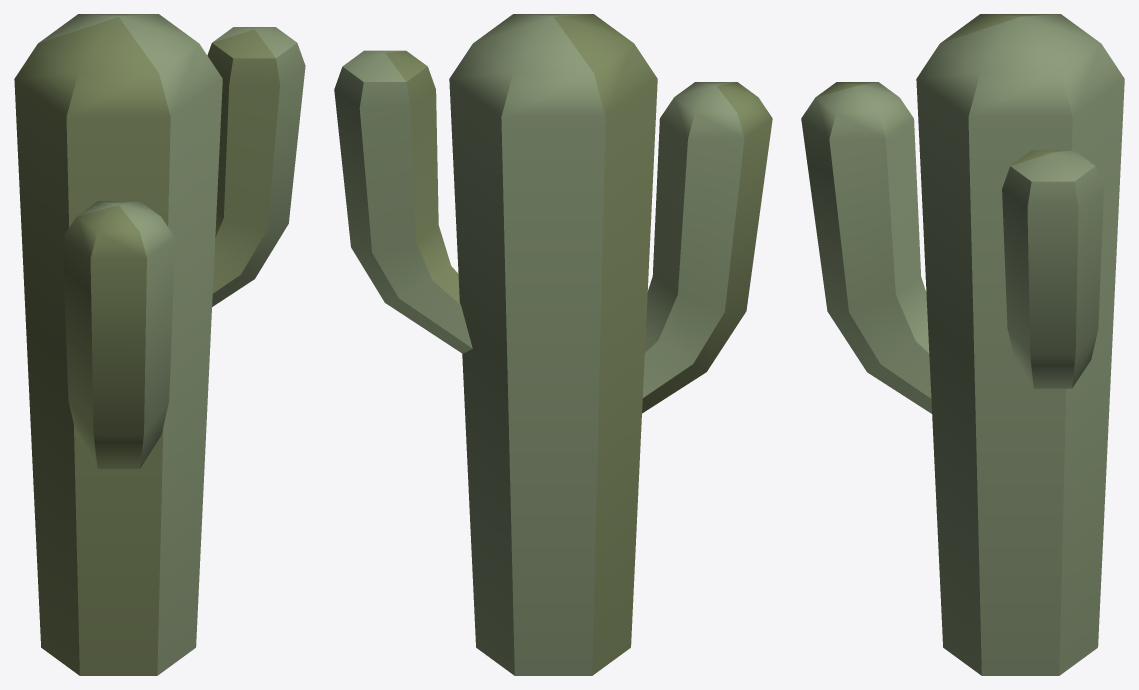
File: RW_HG_Environment_Tree_Cactus.002.fbx
3 views of the same model, side by side, from view 1: azimuth 30°, elevation 25°; view 2: azimuth 150°, elevation 25°; view 3: azimuth 270°, elevation 25° (orthographic).
Visible parts, largest first — view 1: RW_HG_Environment_Tree_Cactus.002; view 2: RW_HG_Environment_Tree_Cactus.002; view 3: RW_HG_Environment_Tree_Cactus.002.
Part boxes in pixels (x1,y1,x2,y2): RW_HG_Environment_Tree_Cactus.002: [14, 14, 305, 675]; RW_HG_Environment_Tree_Cactus.002: [334, 14, 772, 675]; RW_HG_Environment_Tree_Cactus.002: [801, 14, 1124, 675].
Bounding box in the file's own units: 0.4421 × 0.8484 × 0.3945.
